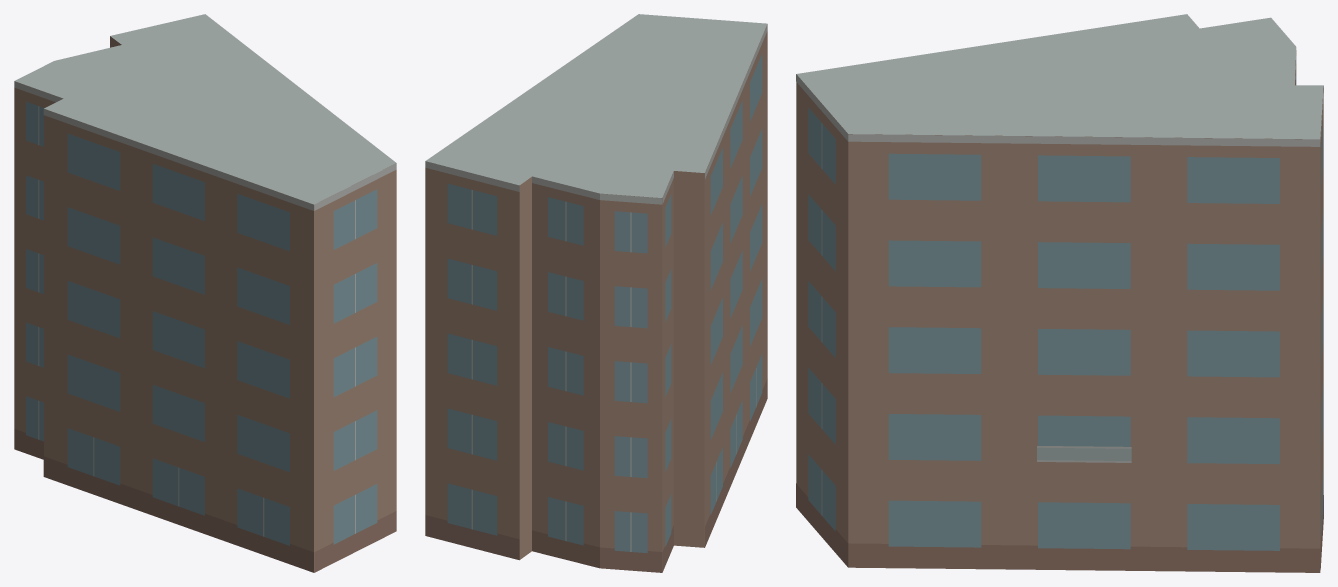
File: survey-upis-32464954.glb
3 renders of one model, left to right at view 1: azimuth 30°, elevation 25°; view 2: azimuth 150°, elevation 25°; view 3: azimuth 270°, elevation 25°, orthographic. The views are drawn at different scales.
Parts seen in each view (by area): view 1: survey-upis-32464954.tmp; view 2: survey-upis-32464954.tmp; view 3: survey-upis-32464954.tmp.
Boxes of the visible parts, x1,y1,x2,y2 form: survey-upis-32464954.tmp: (14,14,396,572); survey-upis-32464954.tmp: (425,14,767,572); survey-upis-32464954.tmp: (796,14,1323,572).
Size of the model in its own units: 8.63 by 13.9 by 15.33.
